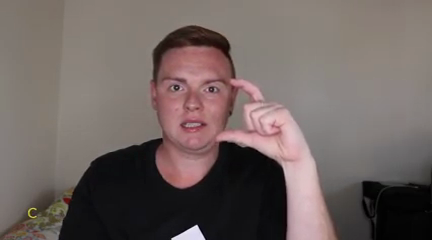C: (211, 75, 309, 169)
